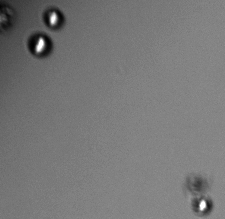Dead Cell: (186, 172, 211, 195), (1, 3, 19, 33)
Living Cell: (26, 30, 52, 59), (41, 6, 66, 32), (191, 193, 213, 215)
